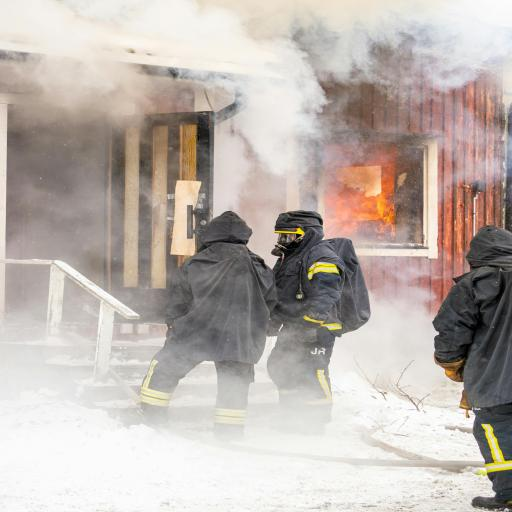buildingfire: (267, 79, 437, 250)
smoke: (7, 0, 506, 176), (0, 286, 209, 512)
